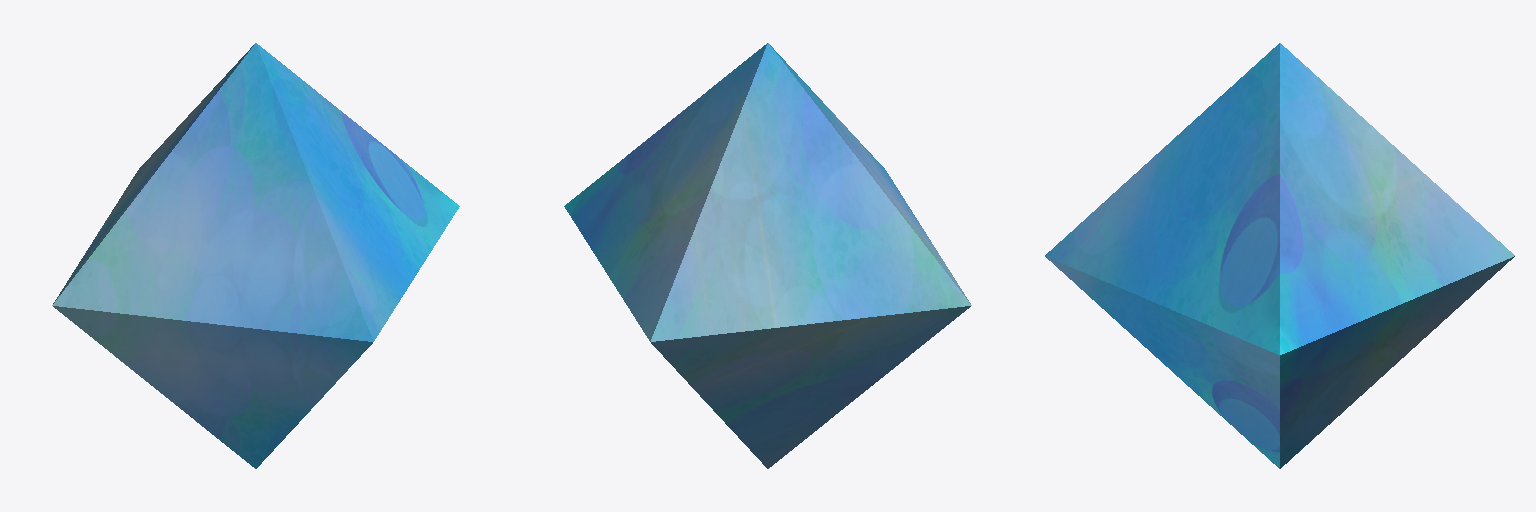
The picture shows the model from 3 angles: view 1: azimuth 30°, elevation 25°; view 2: azimuth 150°, elevation 25°; view 3: azimuth 270°, elevation 25°; orthographic projection.
Visible parts, largest first — view 1: Cone; view 2: Cone; view 3: Cone.
Boxes of the visible parts, x1,y1,x2,y2 form: Cone: [52, 43, 459, 468]; Cone: [564, 43, 971, 468]; Cone: [1045, 43, 1514, 468].
Bounding box in the file's own units: 0.0652 × 0.0652 × 0.0652.
Materials: 1 (1 with a texture image).